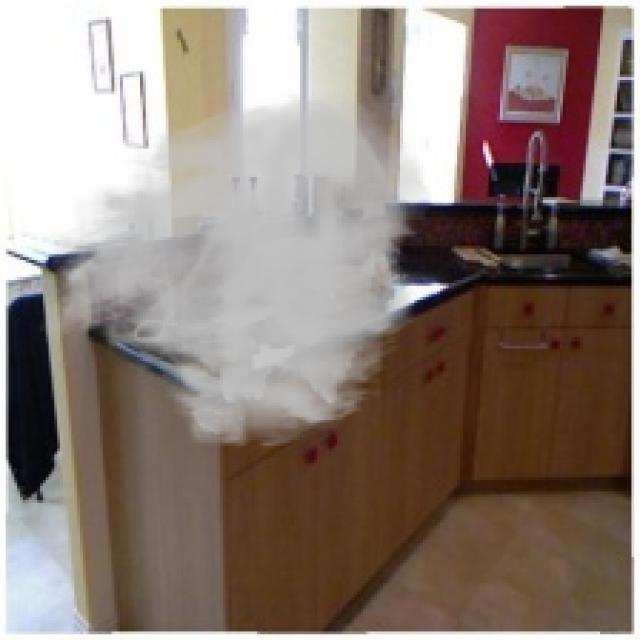Smoke: (37, 89, 434, 452)
